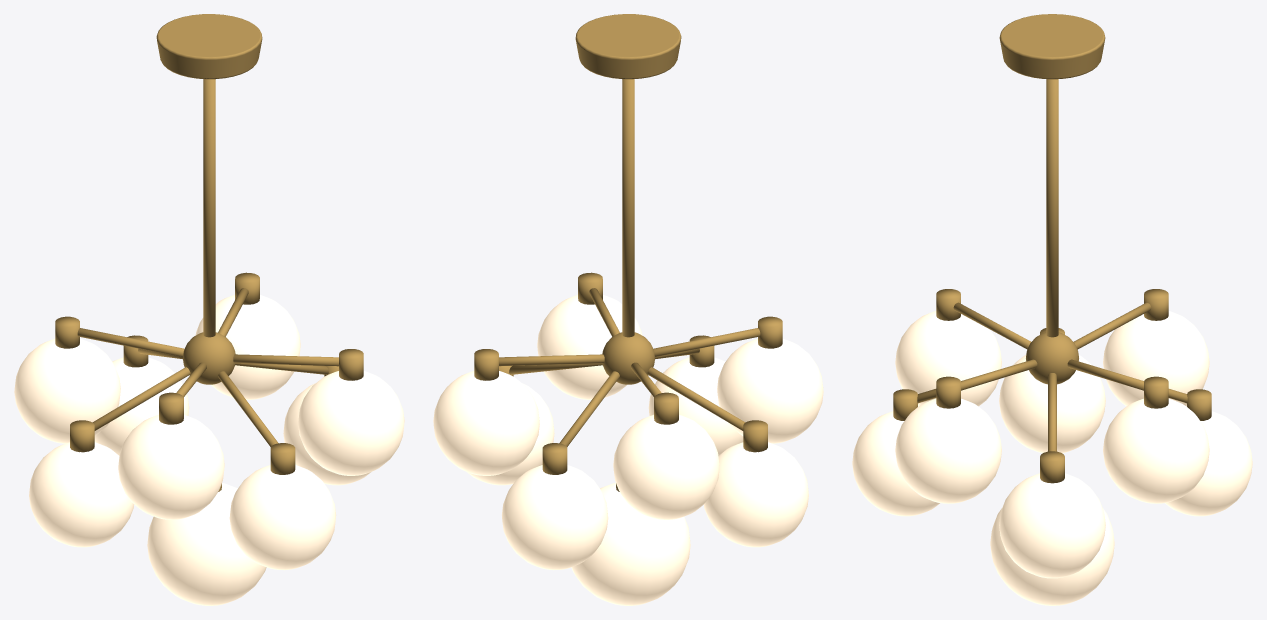
3 renders of one model, left to right at view 1: azimuth 30°, elevation 25°; view 2: azimuth 150°, elevation 25°; view 3: azimuth 270°, elevation 25°, orthographic.
Visible parts, largest first — view 1: Opal globe 9, Opal globe 7, Opal globe 8, Opal globe 1, Opal globe 6, Opal globe 5, Ceiling canopy, Opal globe 3, Brass stem, Opal globe 4, Brass hub, Opal globe 2 (+11 smaller); view 2: Opal globe 3, Opal globe 5, Opal globe 4, Opal globe 1, Opal globe 6, Opal globe 7, Ceiling canopy, Opal globe 9, Brass stem, Opal globe 8, Brass hub, Opal globe 2 (+11 smaller); view 3: Opal globe 3, Opal globe 9, Opal globe 2, Opal globe 5, Opal globe 7, Opal globe 6, Ceiling canopy, Opal globe 4, Opal globe 8, Opal globe 1, Brass stem, Brass hub (+12 smaller).
Boxes of the visible parts, box(x1,y1,x2,y2) form: Opal globe 9: box(298, 371, 404, 475); Opal globe 7: box(118, 414, 224, 519); Opal globe 8: box(229, 465, 336, 570); Opal globe 1: box(147, 483, 266, 605); Opal globe 6: box(29, 442, 134, 547); Opal globe 5: box(14, 338, 120, 443); Ceiling canopy: box(156, 14, 262, 79); Opal globe 3: box(195, 295, 300, 399); Brass stem: box(203, 79, 215, 337); Opal globe 4: box(94, 357, 189, 455); Brass hub: box(183, 332, 235, 384); Opal globe 2: box(283, 383, 370, 485); Opal globe 3: box(433, 371, 539, 475); Opal globe 5: box(613, 414, 719, 519); Opal globe 4: box(501, 465, 608, 570); Opal globe 1: box(571, 483, 690, 605); Opal globe 6: box(703, 442, 808, 547); Opal globe 7: box(717, 338, 823, 443); Ceiling canopy: box(575, 14, 681, 79); Opal globe 9: box(537, 295, 642, 399); Brass stem: box(622, 79, 634, 337); Opal globe 8: box(648, 357, 743, 455); Brass hub: box(602, 332, 654, 384); Opal globe 2: box(467, 383, 554, 485); Opal globe 3: box(1103, 398, 1209, 503); Opal globe 9: box(895, 398, 1001, 503); Opal globe 2: box(999, 473, 1105, 578); Opal globe 5: box(1103, 311, 1209, 406); Opal globe 7: box(895, 311, 1001, 406); Opal globe 6: box(999, 355, 1105, 453); Ceiling canopy: box(999, 14, 1105, 79); Opal globe 4: box(1165, 411, 1252, 516); Opal globe 8: box(852, 411, 939, 516); Opal globe 1: box(990, 508, 1114, 605); Brass stem: box(1046, 79, 1058, 337); Brass hub: box(1026, 332, 1078, 384).
Size of the model in its own units: 0.45 by 0.7 by 0.45.
